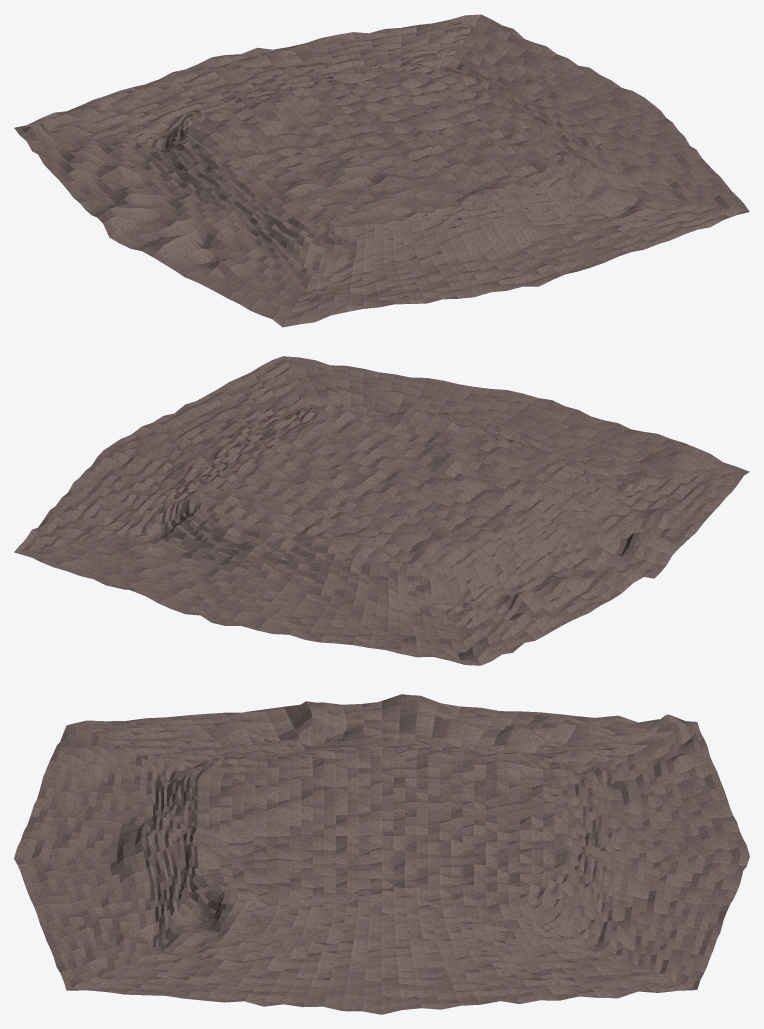
Rendered from SM_LDFest_23_01.fbx.
The picture shows the model from 3 angles, top to bottom: view 1: azimuth 30°, elevation 25°; view 2: azimuth 150°, elevation 25°; view 3: azimuth 270°, elevation 25°; orthographic projection. The views are drawn at different scales.
Parts seen in each view (by area): view 1: SM_LDFest_23_01; view 2: SM_LDFest_23_01; view 3: SM_LDFest_23_01.
Boxes of the visible parts, x1,y1,x2,y2 form: SM_LDFest_23_01: (14,14,749,327); SM_LDFest_23_01: (14,356,749,665); SM_LDFest_23_01: (14,694,749,1014).
Bounding box in the file's own units: 4263 × 338 × 4248.
